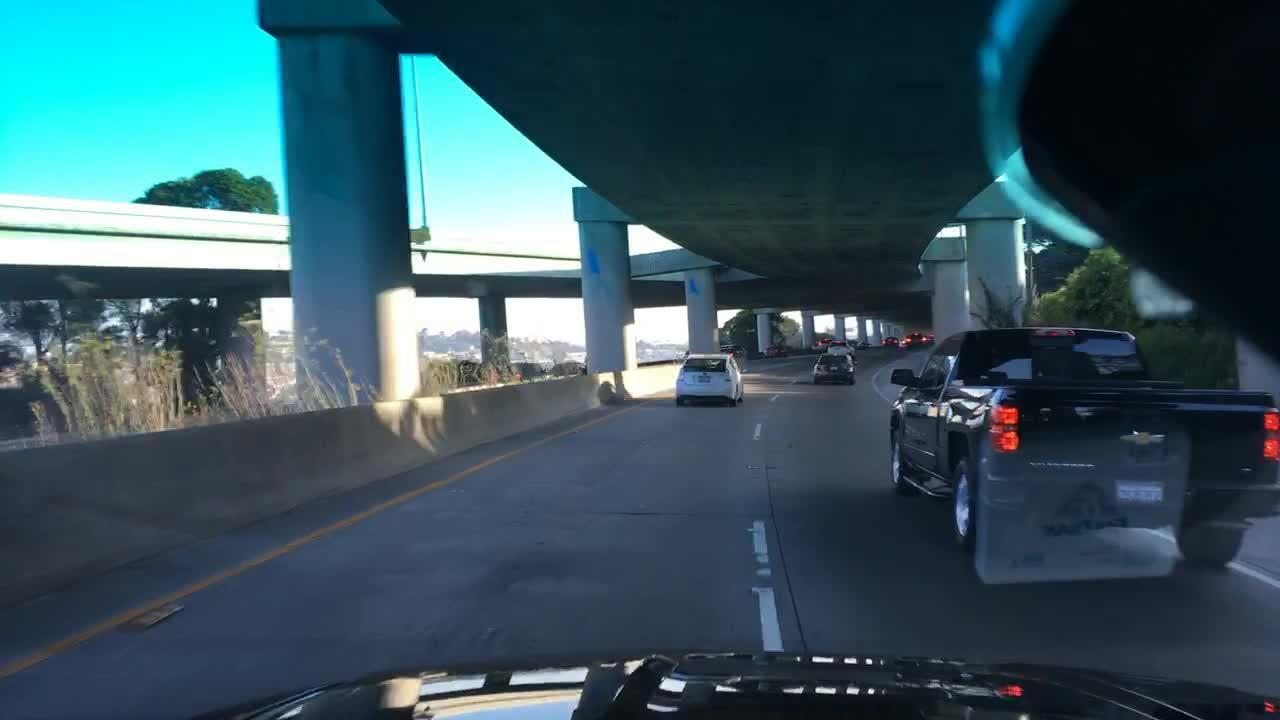chevrolet: (1109, 416, 1177, 457)
